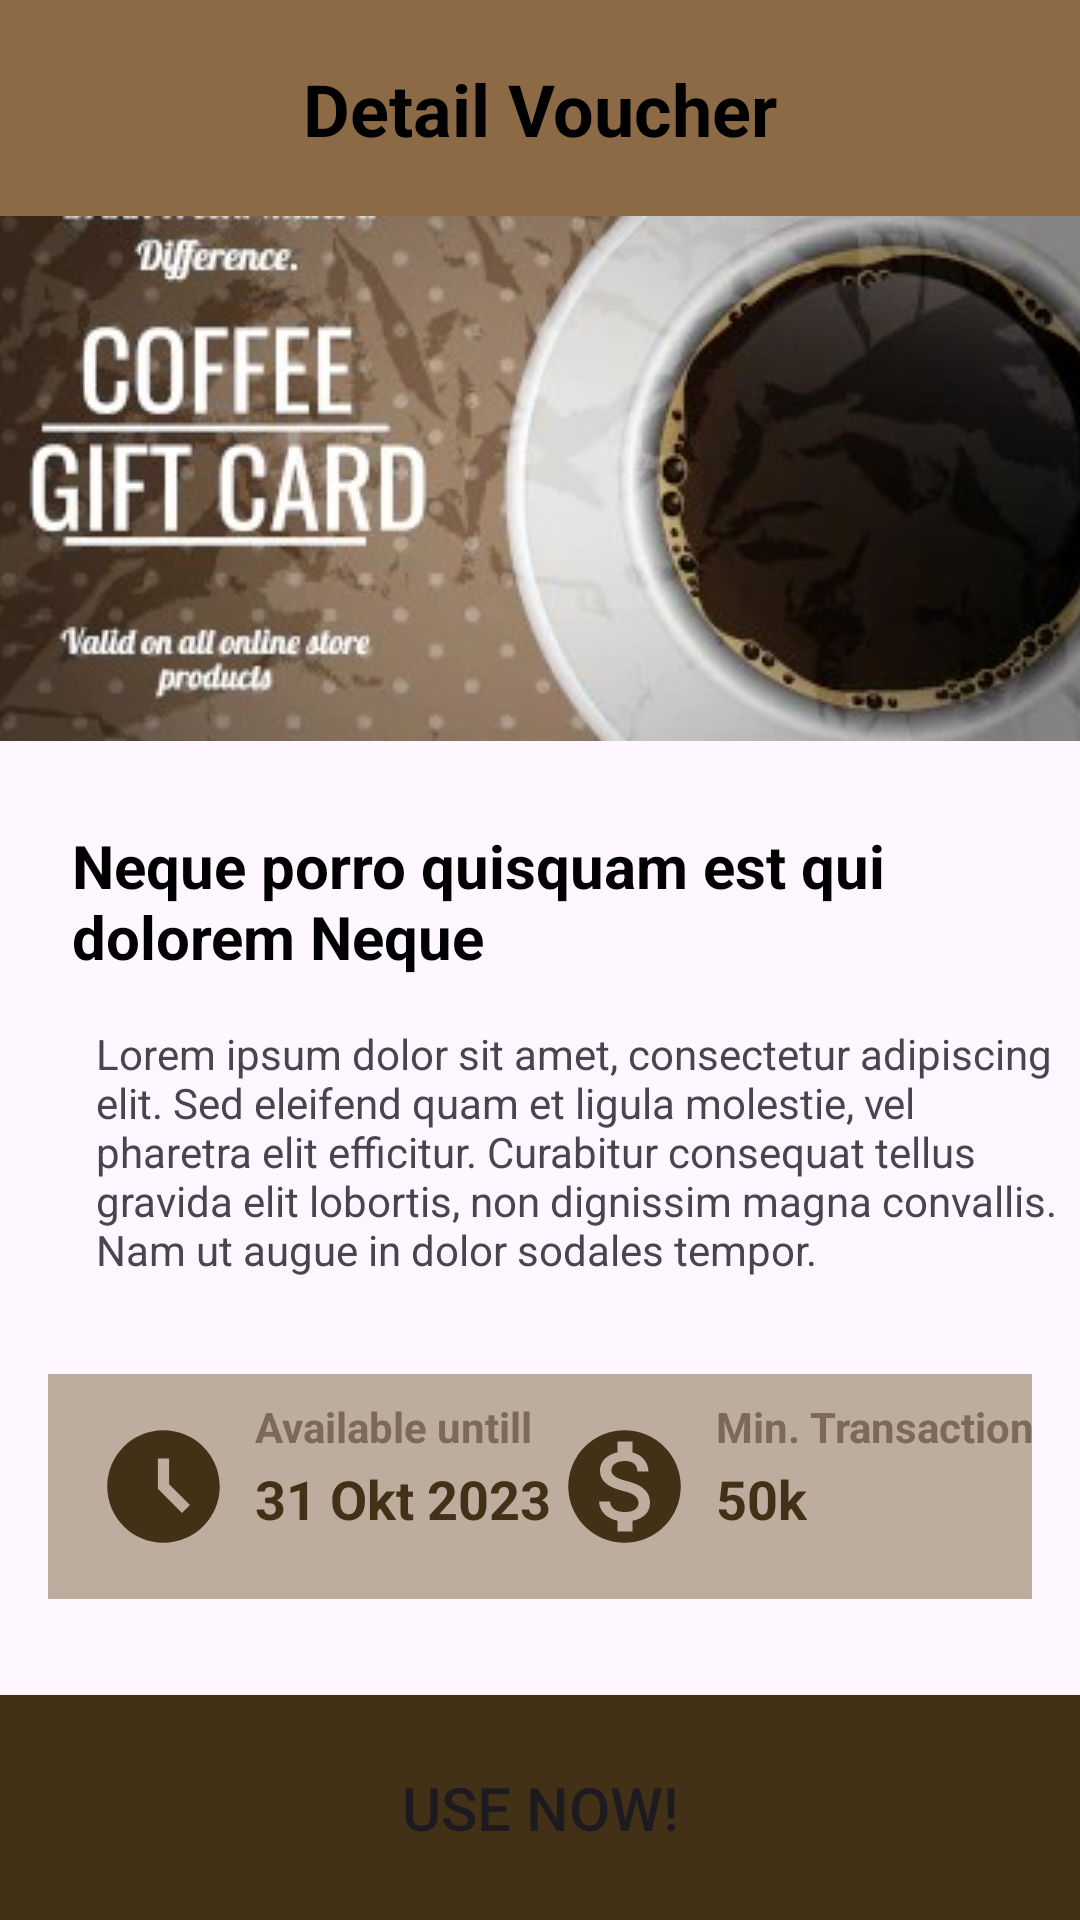

Icon click points for this 1080 × 1920 phone screenshot, format (x,y):
money: (624,1486)
time available: (163,1486)
